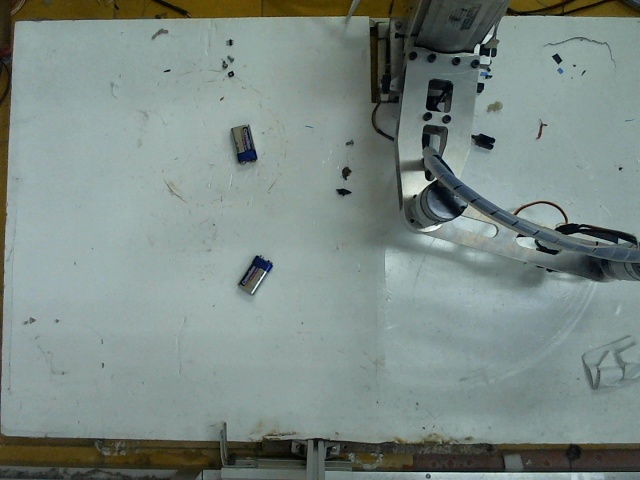battery: (232, 250, 270, 296), (223, 119, 257, 162)
